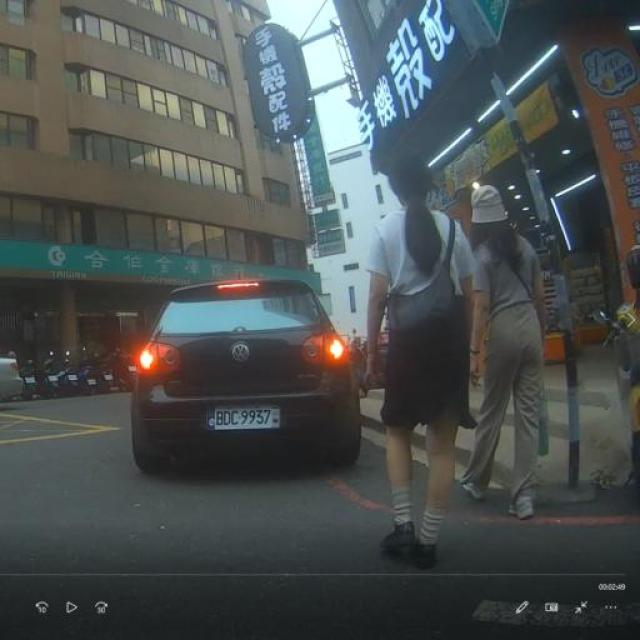illegalparking: (114, 254, 376, 504)
